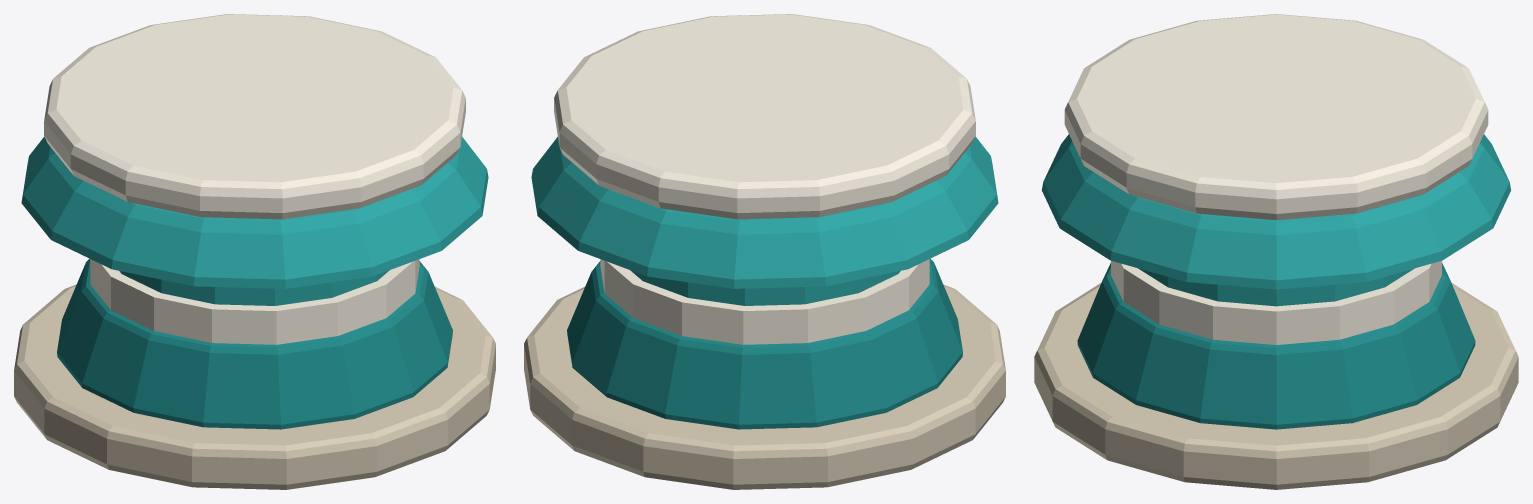
The model's file is round2.glb.
3 renders of one model, left to right at view 1: azimuth 30°, elevation 25°; view 2: azimuth 150°, elevation 25°; view 3: azimuth 270°, elevation 25°, orthographic.
Visible parts, largest first — view 1: ring, base, skirt, cap, band, body; view 2: ring, base, skirt, cap, band, body; view 3: ring, base, skirt, cap, band, body.
Boxes of the visible parts, x1=… form: ring: x1=44, y1=14, x2=465, y2=219; base: x1=14, y1=284, x2=495, y2=489; skirt: x1=57, y1=258, x2=452, y2=429; cap: x1=21, y1=136, x2=488, y2=288; band: x1=90, y1=259, x2=419, y2=344; body: x1=119, y1=270, x2=389, y2=305; ring: x1=554, y1=14, x2=975, y2=219; base: x1=524, y1=284, x2=1005, y2=489; skirt: x1=567, y1=258, x2=962, y2=429; cap: x1=531, y1=136, x2=998, y2=288; band: x1=600, y1=259, x2=929, y2=344; body: x1=630, y1=270, x2=900, y2=305; ring: x1=1064, y1=14, x2=1488, y2=220; base: x1=1034, y1=283, x2=1518, y2=489; skirt: x1=1077, y1=263, x2=1475, y2=429; cap: x1=1041, y1=134, x2=1511, y2=289; band: x1=1111, y1=261, x2=1441, y2=344; body: x1=1138, y1=268, x2=1414, y2=306.
Size of what is drawn, in the model's own units: 1.2 by 0.8 by 1.2.
